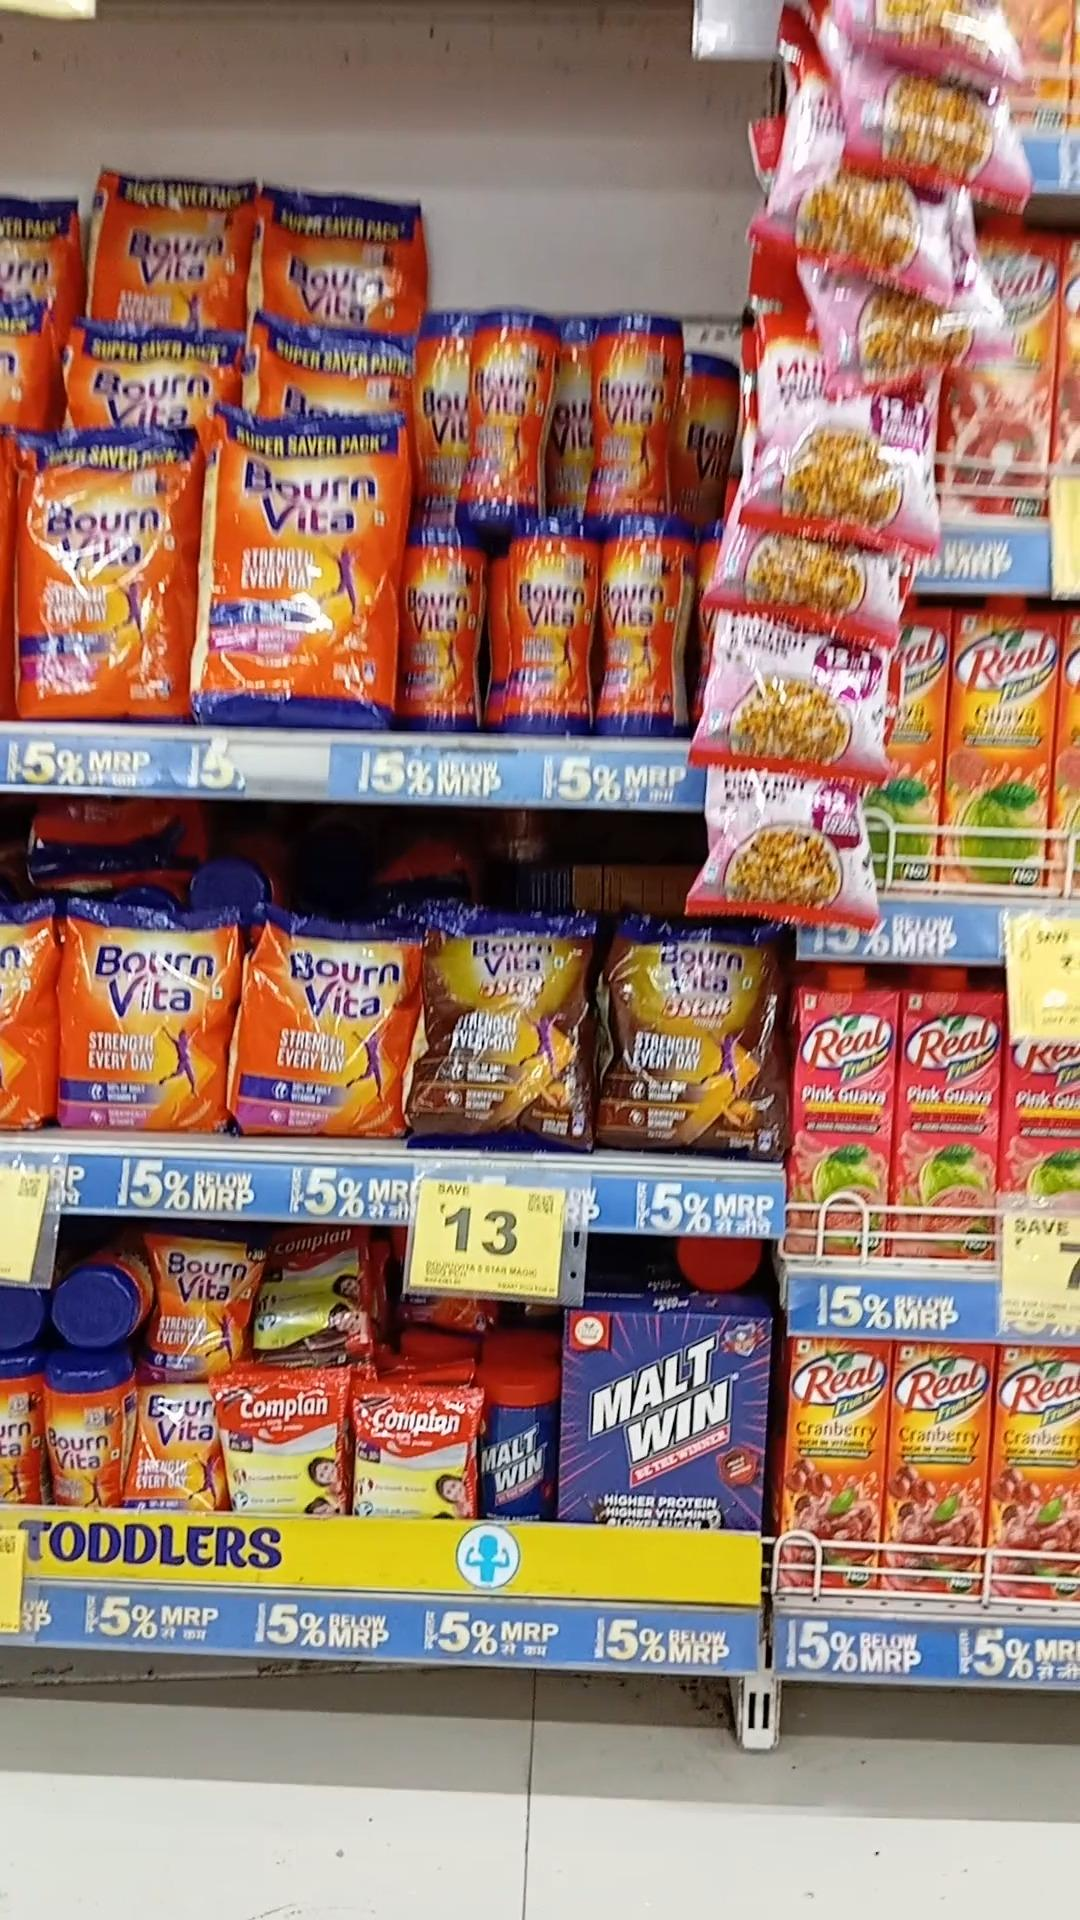BOURN_VITA_1_KG_POUCH: (198, 409, 396, 723), (21, 434, 185, 723)
BOURN_VITA_200_G_JAR: (45, 1354, 124, 1507)
BOURN_VITA_500_G_JAR: (502, 512, 593, 733), (599, 513, 679, 736), (398, 529, 487, 728), (585, 318, 678, 505), (459, 310, 546, 506)
BOURN_VITA_500_G_POUCH: (231, 911, 409, 1139), (63, 895, 224, 1127)
BOURN_VITA_75_G_POUCH: (146, 1237, 252, 1379), (133, 1379, 224, 1511)
BOURN_VITA_FIVE_STAR_MAGIC_500_G_POUCH: (419, 895, 595, 1149), (609, 923, 783, 1143)
